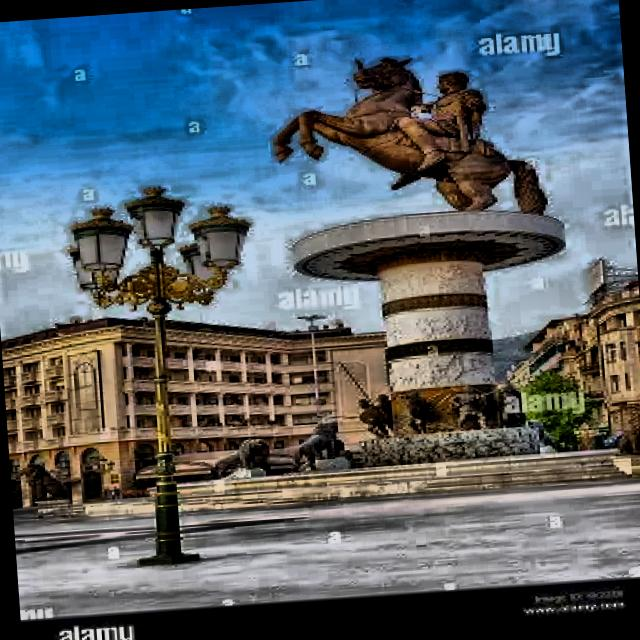alexander the great monument: (270, 39, 598, 505)
